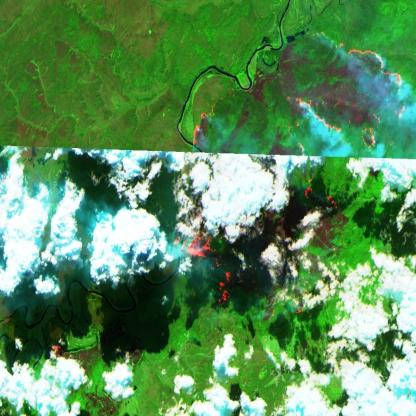fire: (190, 24, 412, 158), (173, 193, 239, 314), (295, 172, 343, 218), (43, 335, 70, 368)
